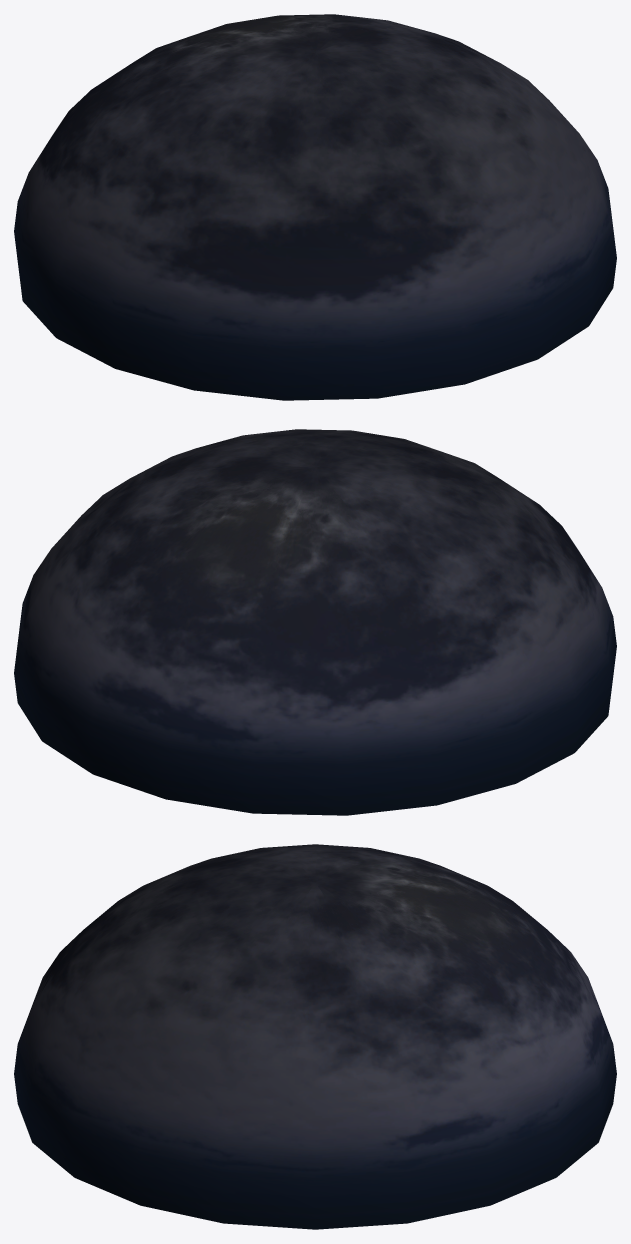
The model's file is SKYBOX.OBJ.
3 views of the same model, one above another, from view 1: azimuth 30°, elevation 25°; view 2: azimuth 150°, elevation 25°; view 3: azimuth 270°, elevation 25° (orthographic).
Parts seen in each view (by area): view 1: VRFirst_CubeMap__m_VRFirst_CubeMap; view 2: VRFirst_CubeMap__m_VRFirst_CubeMap; view 3: VRFirst_CubeMap__m_VRFirst_CubeMap.
Boxes of the visible parts, left/top/right/bottom form: VRFirst_CubeMap__m_VRFirst_CubeMap: left=14, top=14, right=616, bottom=400; VRFirst_CubeMap__m_VRFirst_CubeMap: left=14, top=429, right=616, bottom=815; VRFirst_CubeMap__m_VRFirst_CubeMap: left=14, top=844, right=616, bottom=1229.
Size of the model in its own units: 100892 by 40836 by 100892.
